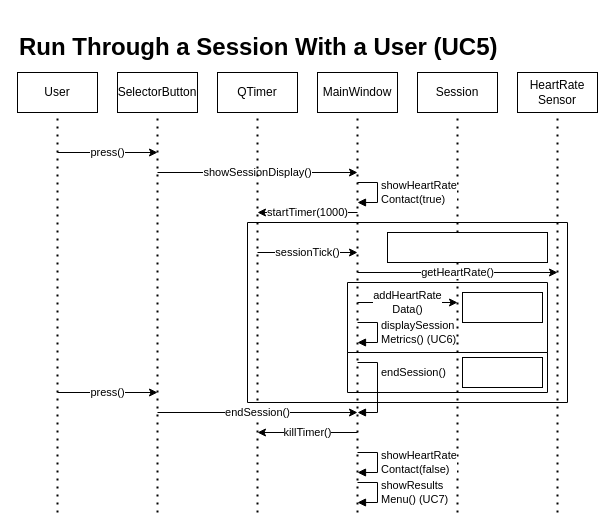
This 615x532 diagram has some shape labels left out. Here are the shapes that lost their labels. From the top down, the centre of each, then its label:
At point 467,247: "Loop until cancelled by user or out of heart rate data".
At point 502,307: "If heart rate data available".
At point 502,372: "Else".
